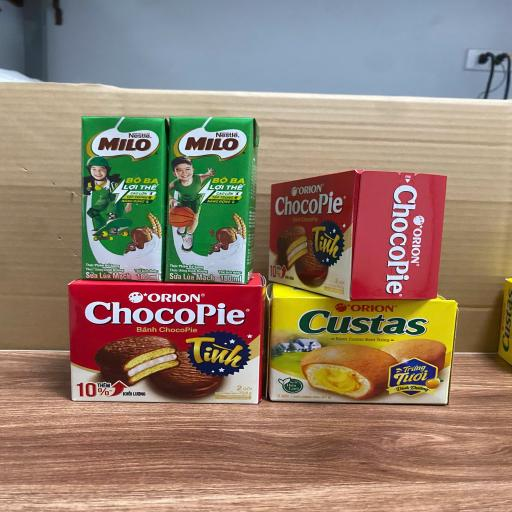chocopie: (66, 276, 266, 405), (263, 168, 445, 301)
custas: (266, 280, 460, 407)
milo: (166, 117, 259, 283), (82, 114, 167, 282)
